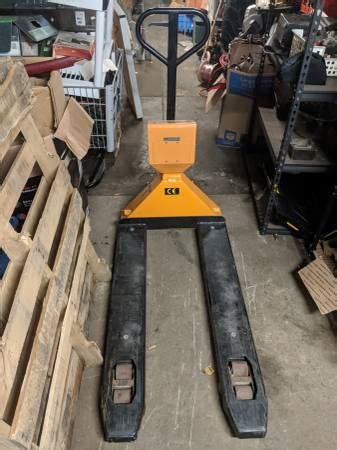Pallet Jack: (97, 6, 268, 442)
